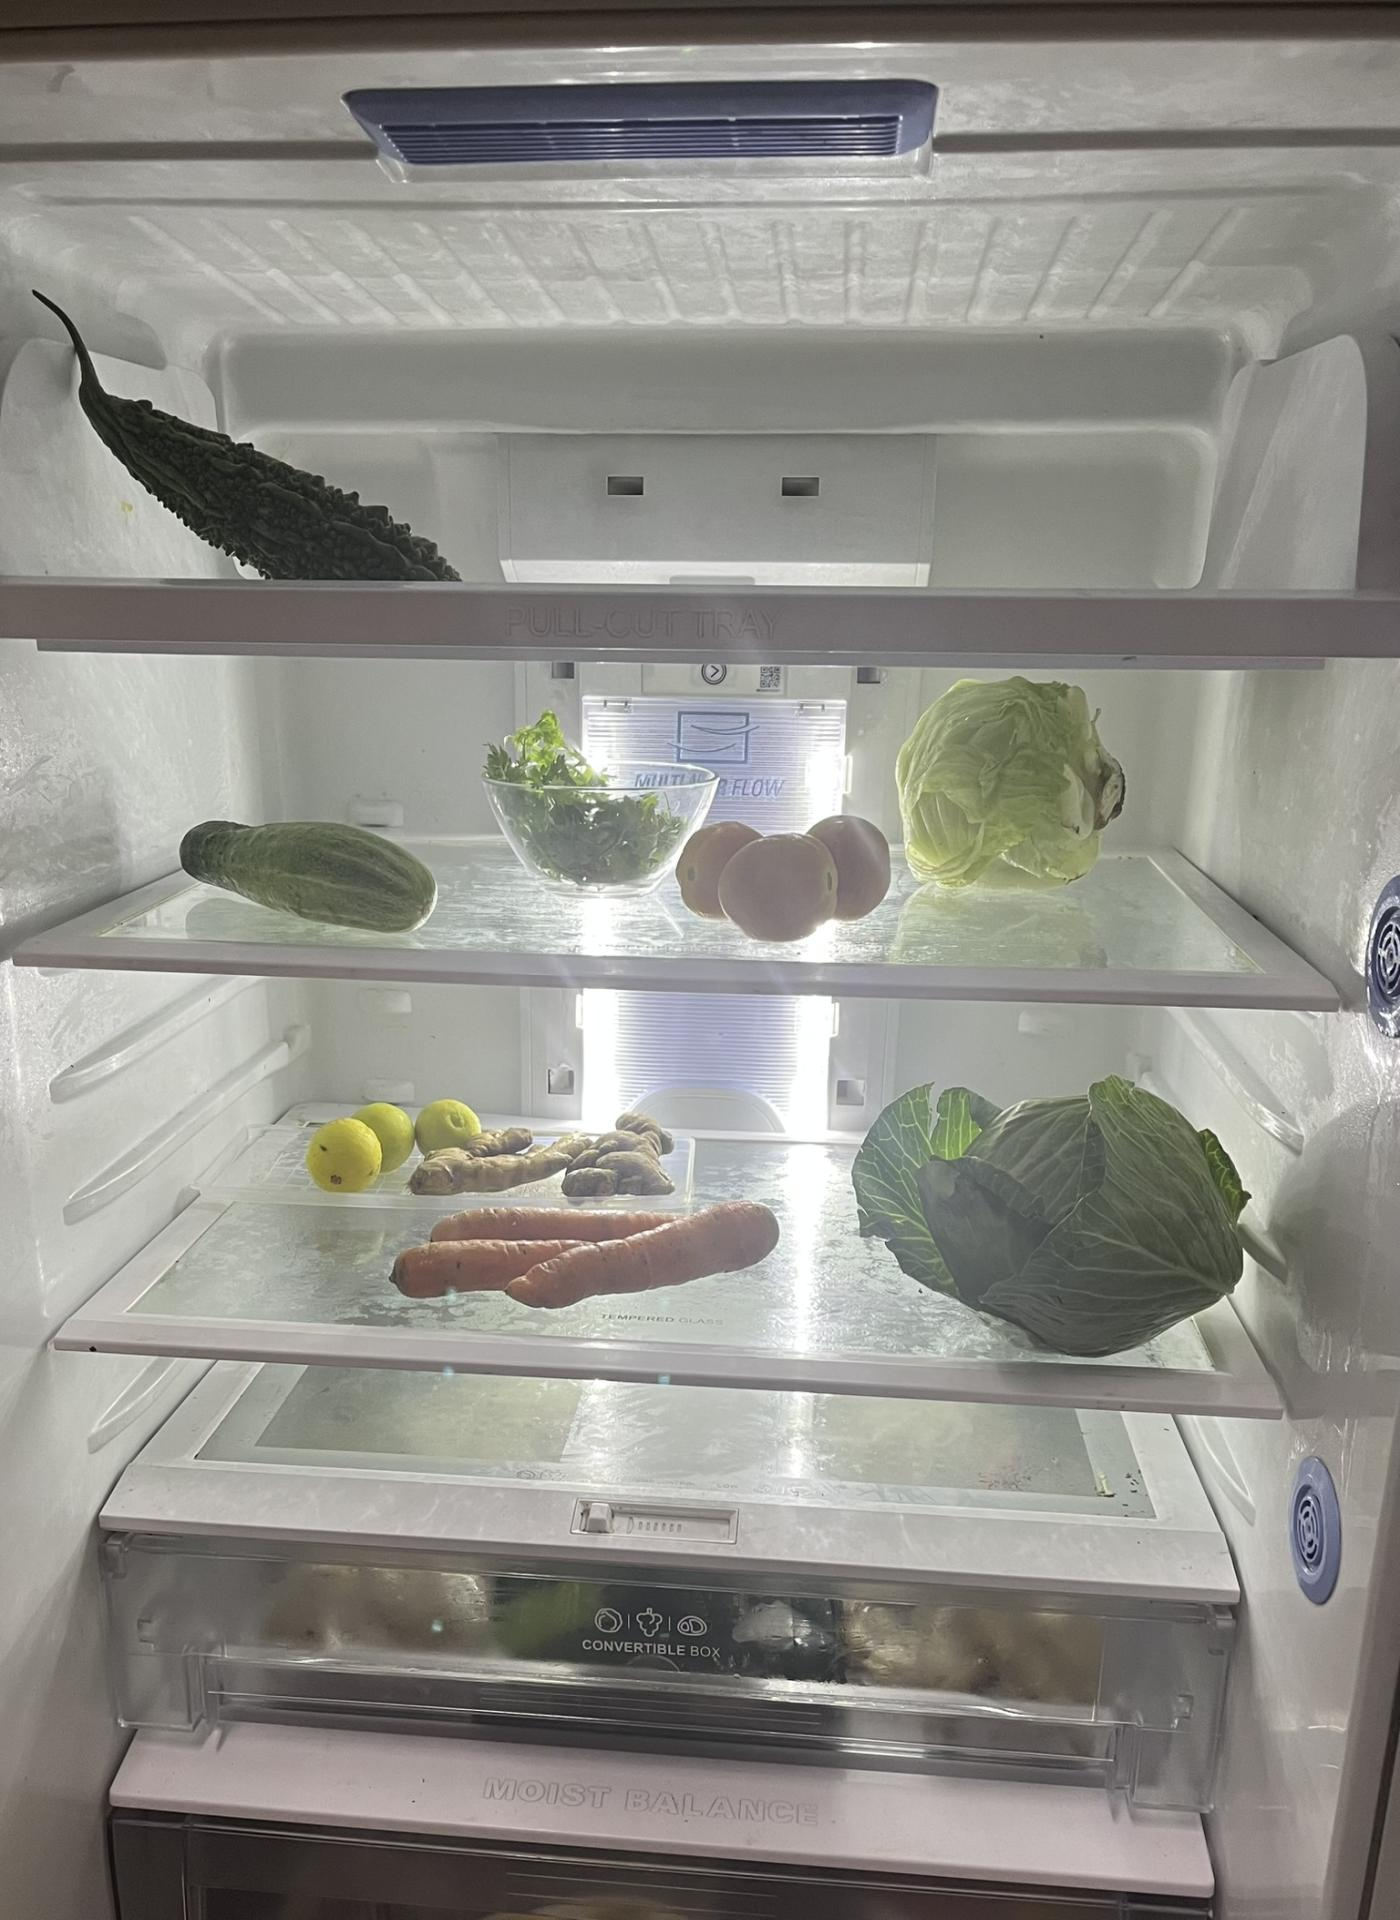bitter gourd: (43, 297, 464, 583)
cabbage: (898, 674, 1130, 890)
coriander: (488, 708, 686, 890)
cucumber: (179, 808, 428, 933)
tomato: (675, 814, 898, 942)
